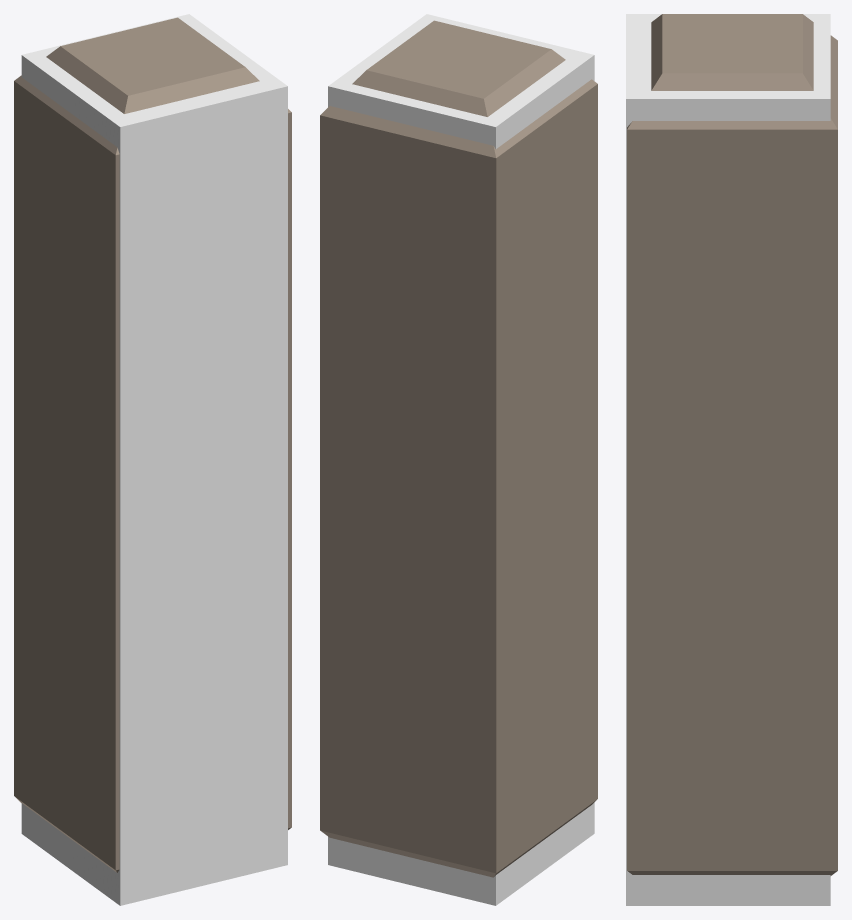
File: modular_village_wood_post_2.glb
3 views of the same model, side by side, from view 1: azimuth 30°, elevation 25°; view 2: azimuth 150°, elevation 25°; view 3: azimuth 270°, elevation 25° (orthographic). The views are drawn at different scales.
Visible parts, largest first — view 1: Cube, object1; view 2: object1, Cube; view 3: object1, Cube.
Part boxes in pixels (left/top/right/bottom): Cube: left=21, top=14, right=287, bottom=905; object1: left=14, top=17, right=291, bottom=872; object1: left=320, top=20, right=597, bottom=877; Cube: left=328, top=14, right=594, bottom=905; object1: left=627, top=14, right=837, bottom=875; Cube: left=626, top=14, right=830, bottom=905.
Size of the model in its own units: 0.231 by 0.9959 by 0.2322.
